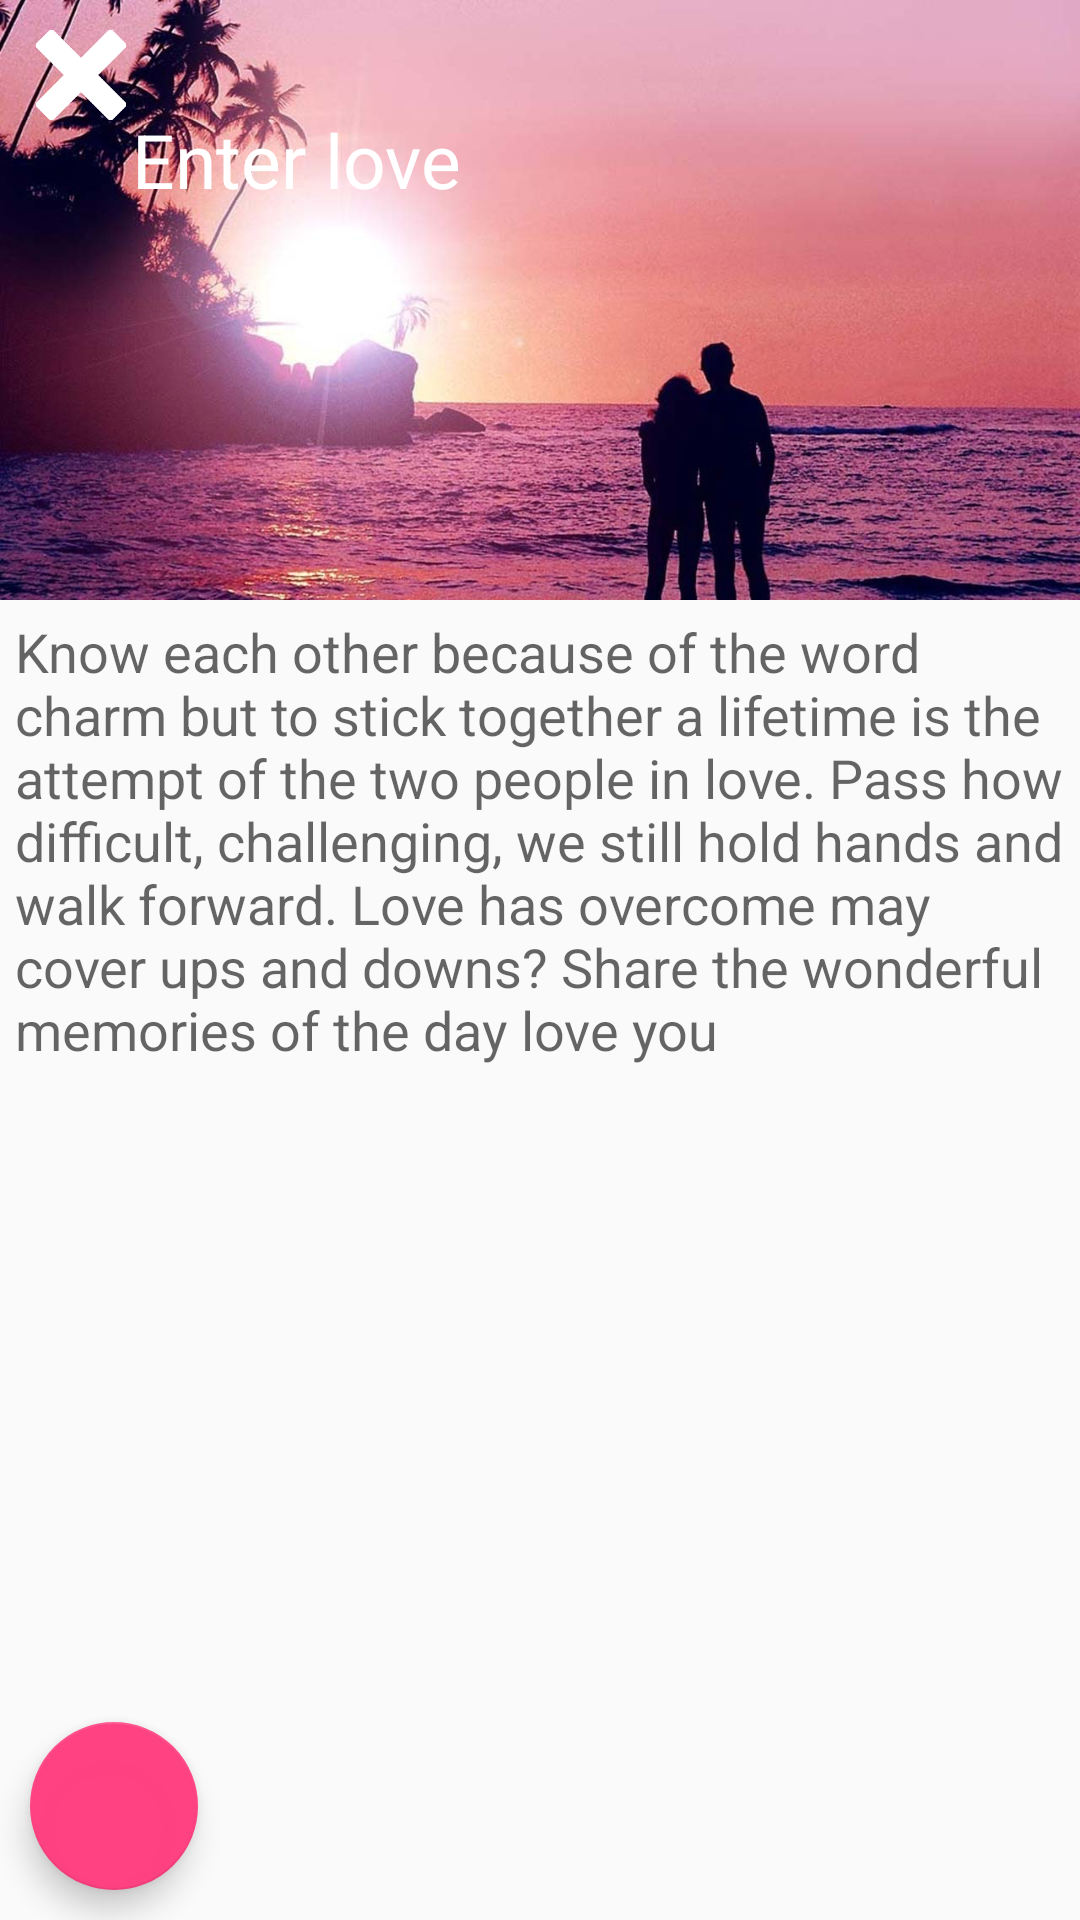

Screen size 1080 x 1920. Icon name, then its center in pixels as point (x, y):
close: point (81, 75)
